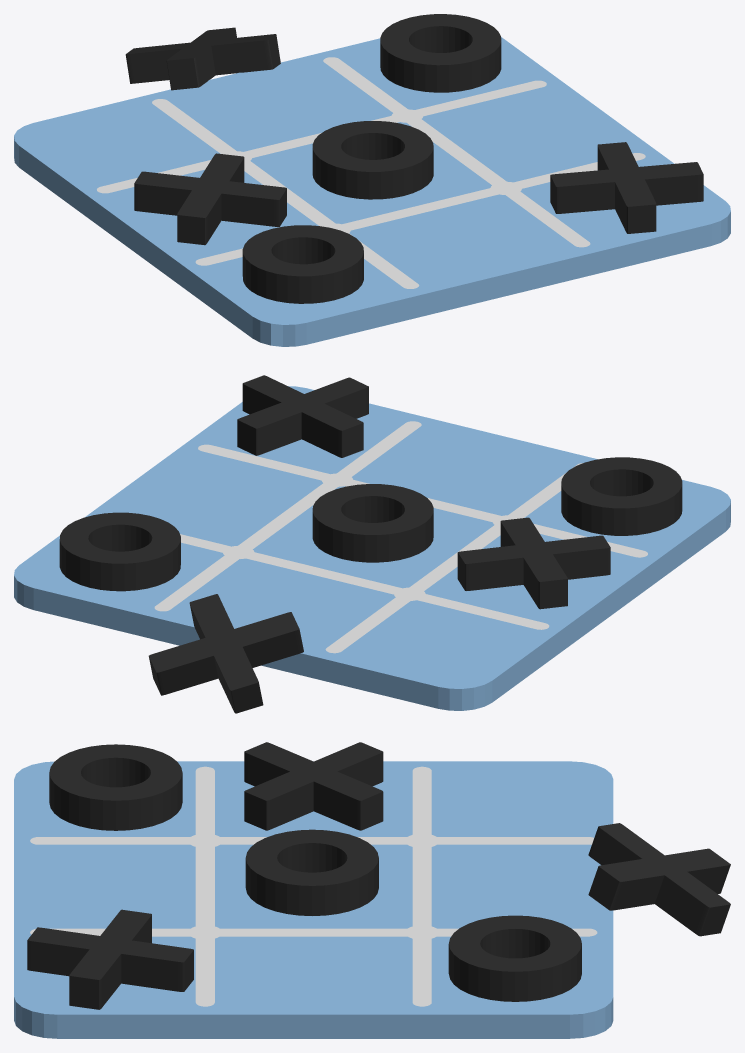
File: Cross.gltf
The picture shows the model from 3 angles, top to bottom: view 1: azimuth 30°, elevation 25°; view 2: azimuth 150°, elevation 25°; view 3: azimuth 270°, elevation 25°; orthographic projection. The views are drawn at different scales.
Parts seen in each view (by area): view 1: Cube_0, Curve.001_8, Cylinder.001_4, Cylinder_1, Cylinder.002_5, Cube.001_2, Cube.002_3, Cube.003_6; view 2: Cube_0, Curve.001_8, Cube.003_6, Cube.002_3, Cylinder.002_5, Cylinder_1, Cylinder.001_4, Cube.001_2; view 3: Cube_0, Curve.001_8, Cube.001_2, Cylinder.002_5, Cylinder.001_4, Cube.003_6, Cylinder_1, Cube.002_3.
Part boxes in pixels (x1=…): Cube_0: x1=14, y1=37, x2=730, y2=346; Curve.001_8: x1=97, y1=57, x2=645, y2=288; Cylinder.001_4: x1=380, y1=14, x2=501, y2=92; Cylinder_1: x1=312, y1=121, x2=433, y2=199; Cylinder.002_5: x1=242, y1=225, x2=363, y2=303; Cube.001_2: x1=134, y1=153, x2=286, y2=245; Cube.002_3: x1=550, y1=142, x2=703, y2=233; Cube.003_6: x1=125, y1=27, x2=280, y2=90; Cube_0: x1=14, y1=386, x2=730, y2=710; Curve.001_8: x1=154, y1=421, x2=647, y2=653; Cube.003_6: x1=148, y1=594, x2=303, y2=713; Cube.002_3: x1=237, y1=375, x2=368, y2=457; Cylinder.002_5: x1=561, y1=457, x2=682, y2=535; Cylinder_1: x1=312, y1=484, x2=433, y2=562; Cylinder.001_4: x1=59, y1=512, x2=180, y2=591; Cube.001_2: x1=457, y1=517, x2=610, y2=609; Cube_0: x1=14, y1=761, x2=613, y2=1038; Curve.001_8: x1=30, y1=766, x2=597, y2=1006; Cube.001_2: x1=244, y1=742, x2=383, y2=830; Cylinder.002_5: x1=49, y1=744, x2=182, y2=830; Cylinder.001_4: x1=448, y1=915, x2=581, y2=1001; Cube.003_6: x1=588, y1=823, x2=730, y2=936; Cylinder_1: x1=245, y1=829, x2=378, y2=915; Cube.002_3: x1=27, y1=909, x2=193, y2=1009.
Bounding box in the file's own units: 1.37 × 0.1689 × 1.64.
